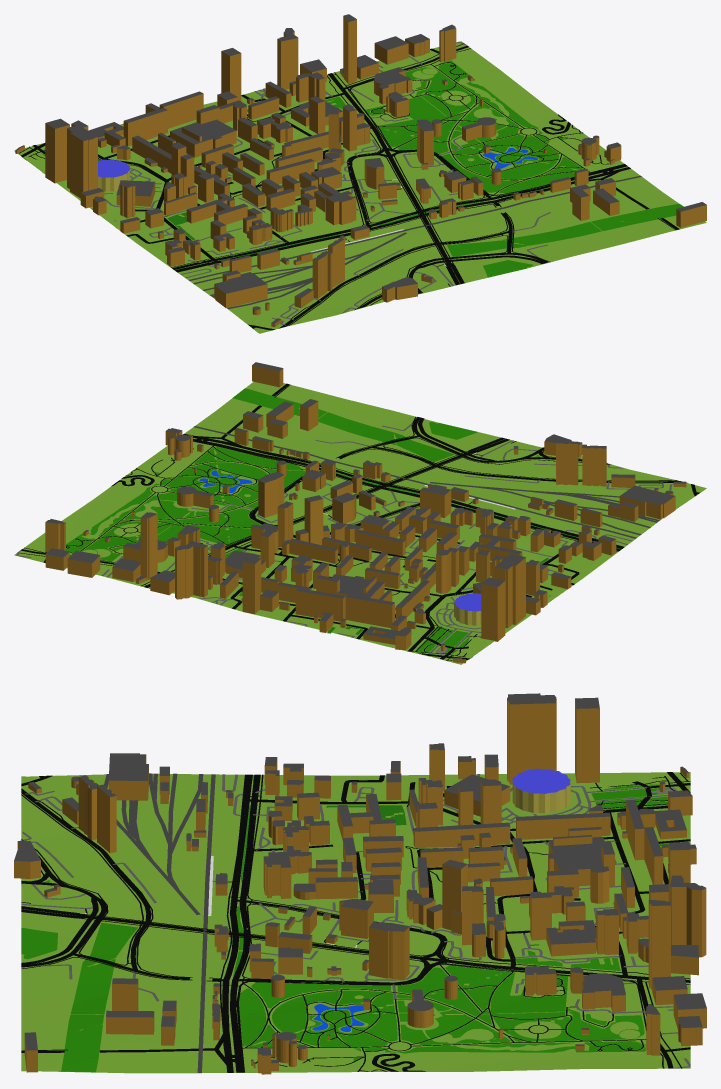
Rendered from tile_05_03.glb.
The picture shows the model from 3 angles, top to bottom: view 1: azimuth 30°, elevation 25°; view 2: azimuth 150°, elevation 25°; view 3: azimuth 270°, elevation 25°; orthographic projection. The views are drawn at different scales.
Visible parts, largest first — view 1: Ub_small.osm_buildings_05_03, Terrain_05_03, Ub_small.osm_vegetation_05_03, Ub_small.osm_paths_footway_05_03, Ub_small.osm_roads_service_05_03, Ub_small.osm_roads_primary_05_03, Ub_small.osm_roads_tertiary_05_03, Ub_small.osm_railways_05_03, Ub_small.osm_roads_secondary_05_03, Ub_small.osm_roads_trunk_05_03, Ub_small.osm_roads_residential_05_03, Circus_05_03 (+1 smaller); view 2: Ub_small.osm_buildings_05_03, Terrain_05_03, Ub_small.osm_vegetation_05_03, Ub_small.osm_paths_footway_05_03, Ub_small.osm_roads_service_05_03, Ub_small.osm_railways_05_03, Ub_small.osm_roads_primary_05_03, Ub_small.osm_roads_secondary_05_03, Ub_small.osm_roads_tertiary_05_03, Ub_small.osm_roads_residential_05_03, Circus_05_03, Ub_small.osm_roads_trunk_05_03 (+1 smaller); view 3: Terrain_05_03, Ub_small.osm_buildings_05_03, Ub_small.osm_vegetation_05_03, Ub_small.osm_paths_footway_05_03, Ub_small.osm_roads_service_05_03, Ub_small.osm_roads_primary_05_03, Ub_small.osm_railways_05_03, Ub_small.osm_roads_tertiary_05_03, Ub_small.osm_roads_residential_05_03, Circus_05_03, Ub_small.osm_roads_secondary_05_03, Ub_small.osm_roads_trunk_05_03 (+1 smaller).
Boxes of the visible parts, x1,y1,x2,y2 form: Ub_small.osm_buildings_05_03: [15, 14, 706, 327]; Terrain_05_03: [14, 41, 706, 333]; Ub_small.osm_vegetation_05_03: [41, 60, 683, 277]; Ub_small.osm_paths_footway_05_03: [19, 43, 675, 328]; Ub_small.osm_roads_service_05_03: [91, 41, 550, 325]; Ub_small.osm_roads_primary_05_03: [172, 164, 630, 271]; Ub_small.osm_roads_tertiary_05_03: [281, 45, 679, 327]; Ub_small.osm_railways_05_03: [188, 175, 641, 309]; Ub_small.osm_roads_secondary_05_03: [21, 143, 548, 308]; Ub_small.osm_roads_trunk_05_03: [328, 73, 463, 285]; Ub_small.osm_roads_residential_05_03: [22, 92, 373, 330]; Circus_05_03: [98, 159, 129, 191]; Ub_small.osm_buildings_05_03: [45, 362, 686, 663]; Terrain_05_03: [14, 382, 706, 664]; Ub_small.osm_vegetation_05_03: [66, 388, 621, 653]; Ub_small.osm_paths_footway_05_03: [17, 384, 686, 660]; Ub_small.osm_roads_service_05_03: [16, 423, 673, 654]; Ub_small.osm_railways_05_03: [194, 426, 659, 538]; Ub_small.osm_roads_primary_05_03: [183, 434, 623, 551]; Ub_small.osm_roads_secondary_05_03: [408, 417, 607, 659]; Ub_small.osm_roads_tertiary_05_03: [20, 383, 681, 573]; Ub_small.osm_roads_residential_05_03: [222, 484, 699, 659]; Circus_05_03: [454, 593, 481, 625]; Ub_small.osm_roads_trunk_05_03: [144, 438, 509, 587]; Terrain_05_03: [21, 772, 690, 1073]; Ub_small.osm_buildings_05_03: [14, 693, 706, 1074]; Ub_small.osm_vegetation_05_03: [21, 775, 668, 1072]; Ub_small.osm_paths_footway_05_03: [21, 773, 690, 1072]; Ub_small.osm_roads_service_05_03: [21, 774, 690, 1068]; Ub_small.osm_roads_primary_05_03: [222, 774, 260, 1072]; Ub_small.osm_railways_05_03: [104, 773, 215, 1072]; Ub_small.osm_roads_tertiary_05_03: [21, 789, 673, 1068]; Ub_small.osm_roads_residential_05_03: [21, 775, 690, 976]; Circus_05_03: [512, 768, 570, 813]; Ub_small.osm_roads_secondary_05_03: [21, 772, 690, 967]; Ub_small.osm_roads_trunk_05_03: [21, 906, 690, 982].
Bounding box in the file's own units: 992 × 137 × 963.
